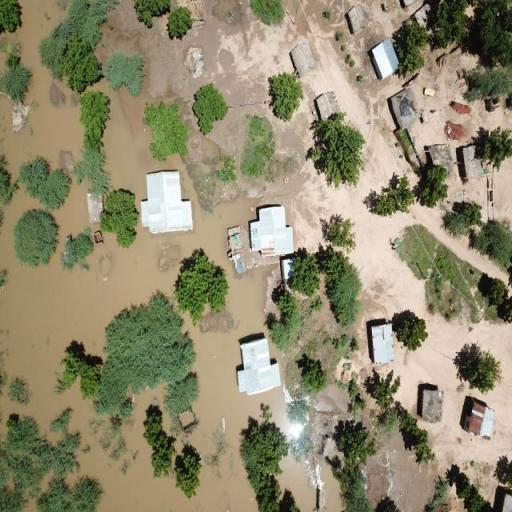flood: (0, 183, 289, 512), (0, 0, 82, 177), (96, 82, 184, 200), (280, 457, 316, 512), (325, 474, 342, 512)
house: (143, 166, 190, 232), (236, 334, 278, 390), (248, 204, 292, 254), (368, 36, 399, 82), (389, 88, 422, 130), (365, 318, 392, 367), (418, 387, 445, 424), (291, 40, 317, 76), (455, 144, 479, 180), (314, 90, 340, 120), (346, 4, 370, 36), (459, 395, 480, 430), (428, 142, 451, 168), (493, 484, 512, 512), (178, 408, 198, 428)
